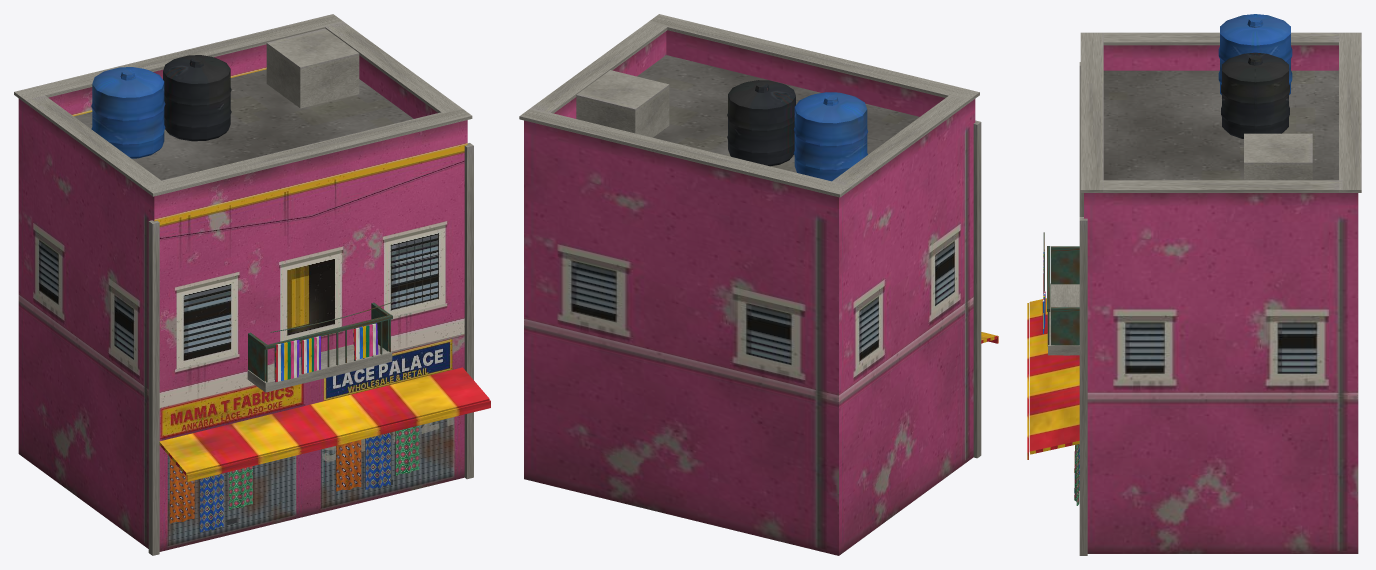
The model's file is mkt_building_a.glb.
3 views of the same model, side by side, from view 1: azimuth 30°, elevation 25°; view 2: azimuth 150°, elevation 25°; view 3: azimuth 270°, elevation 25° (orthographic).
Visible parts, largest first — view 1: mkt_building_a_body; view 2: mkt_building_a_body; view 3: mkt_building_a_body.
Boxes of the visible parts, left/top/right/bottom form: mkt_building_a_body: left=14, top=14, right=490, bottom=555; mkt_building_a_body: left=519, top=14, right=998, bottom=555; mkt_building_a_body: left=1027, top=14, right=1361, bottom=555.
Bounding box in the file's own units: 3.28 × 3.95 × 2.93.
Materials: 1 (1 with a texture image).
